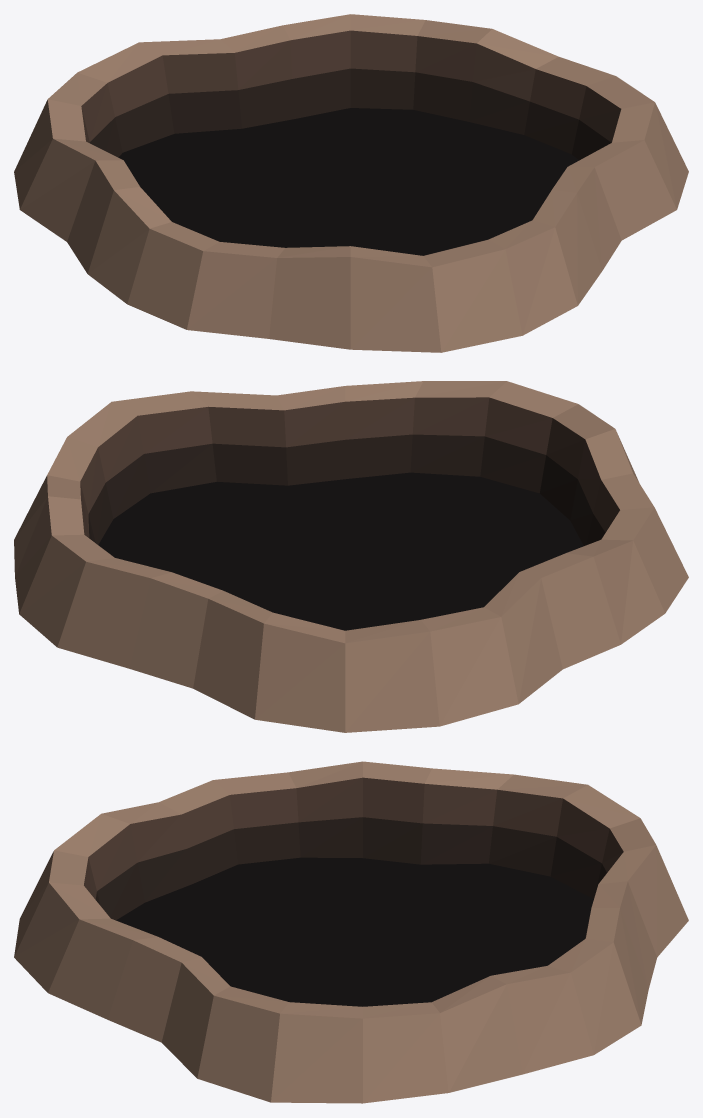
File: pit_gate.obj
3 views of the same model, one above another, from view 1: azimuth 30°, elevation 25°; view 2: azimuth 150°, elevation 25°; view 3: azimuth 270°, elevation 25° (orthographic). The views are drawn at different scales.
Visible parts, largest first — view 1: pit_gate_1, pit_gate_4, pit_gate_2, pit_gate_3; view 2: pit_gate_1, pit_gate_4, pit_gate_2, pit_gate_3; view 3: pit_gate_1, pit_gate_4, pit_gate_2, pit_gate_3.
Boxes of the visible parts, x1,y1,x2,y2 form: pit_gate_1: (14, 14, 688, 352); pit_gate_4: (118, 108, 579, 255); pit_gate_2: (81, 30, 621, 143); pit_gate_3: (89, 68, 611, 160); pit_gate_1: (14, 381, 688, 732); pit_gate_4: (98, 472, 583, 630); pit_gate_2: (80, 397, 619, 537); pit_gate_3: (88, 434, 605, 545); pit_gate_1: (14, 761, 688, 1103); pit_gate_4: (116, 857, 593, 1006); pit_gate_2: (84, 777, 623, 938); pit_gate_3: (95, 817, 606, 920).
Size of the model in its own units: 7.3 by 0.9838 by 7.52.
